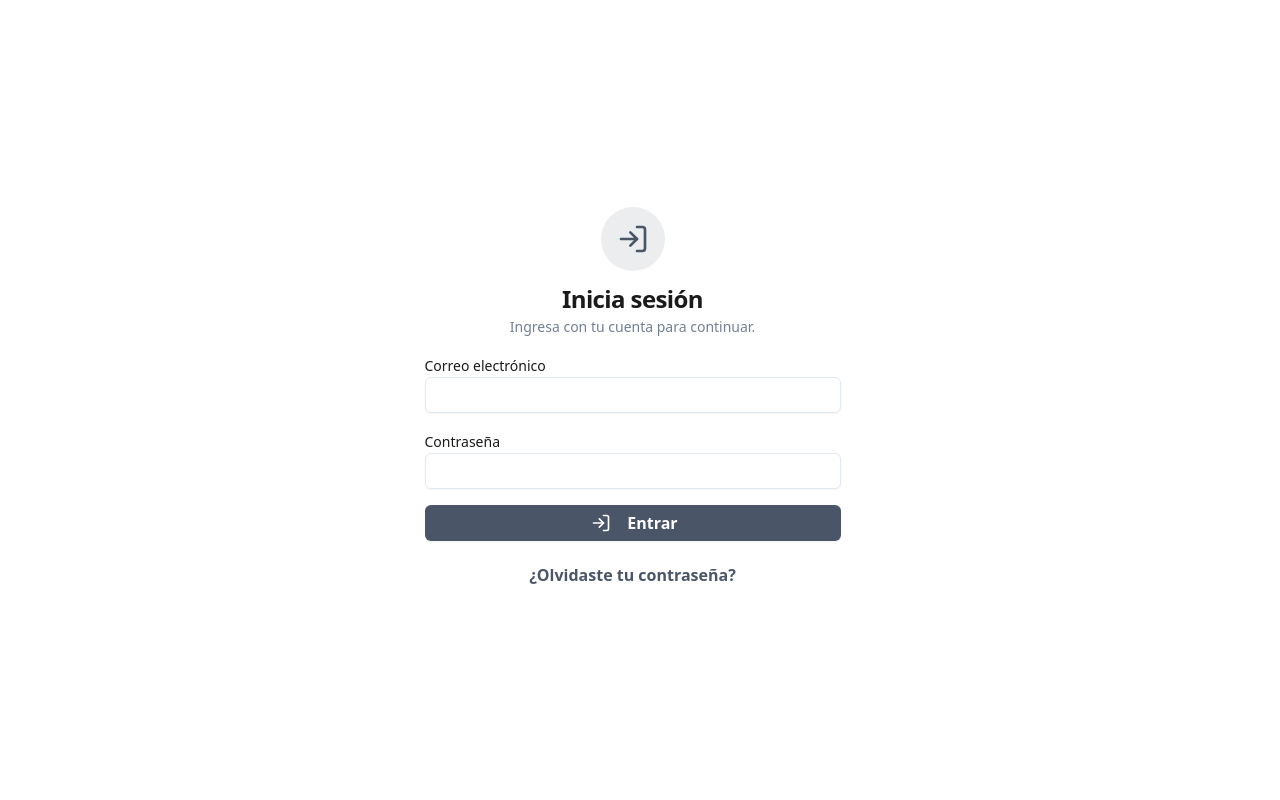
Scenario: login page password recovery entry › leaves the recovery dialog without signing anyone in
This screenshot has width=1280, height=800.
Step 1. Click the button "¿Olvidaste tu contraseña?" → click(632, 575), box x1=517 y1=557 x2=748 y2=593
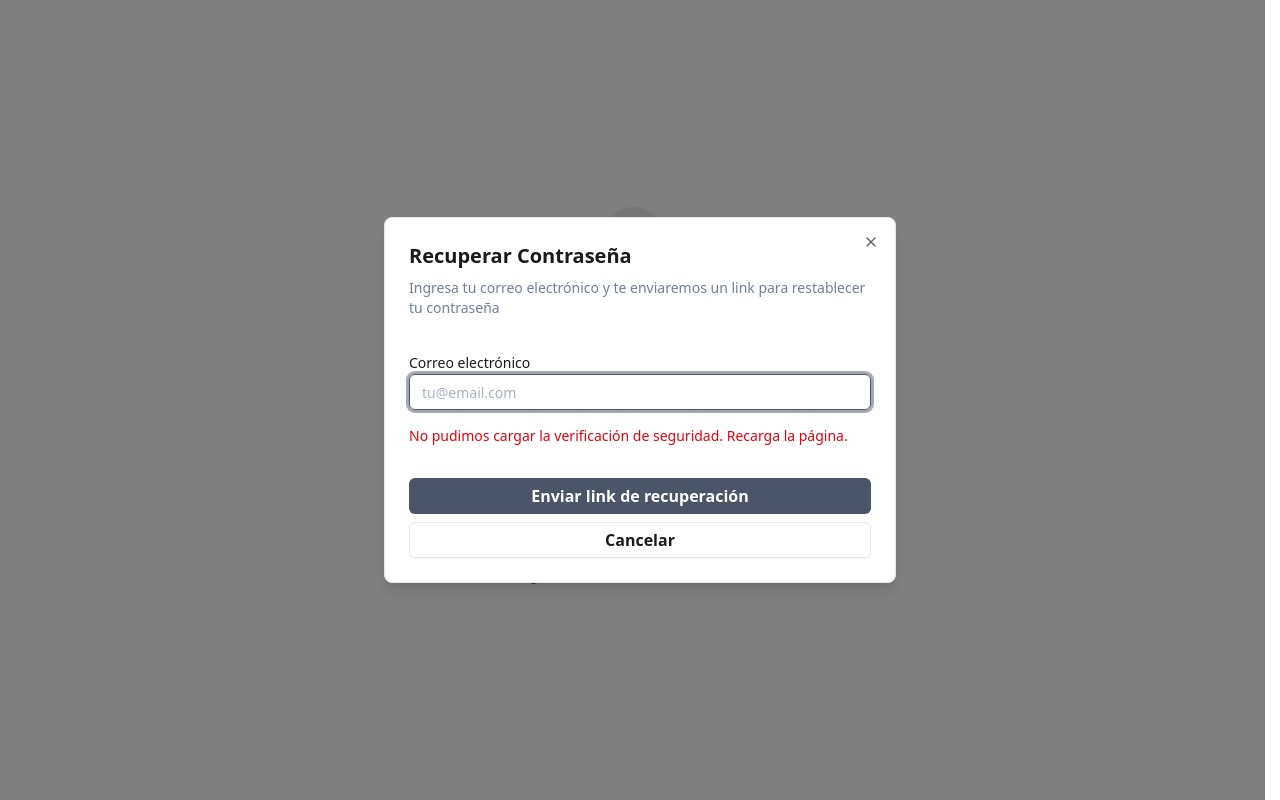
Step 2. Click the button "Cancelar" → click(640, 540), box x1=409 y1=522 x2=871 y2=558
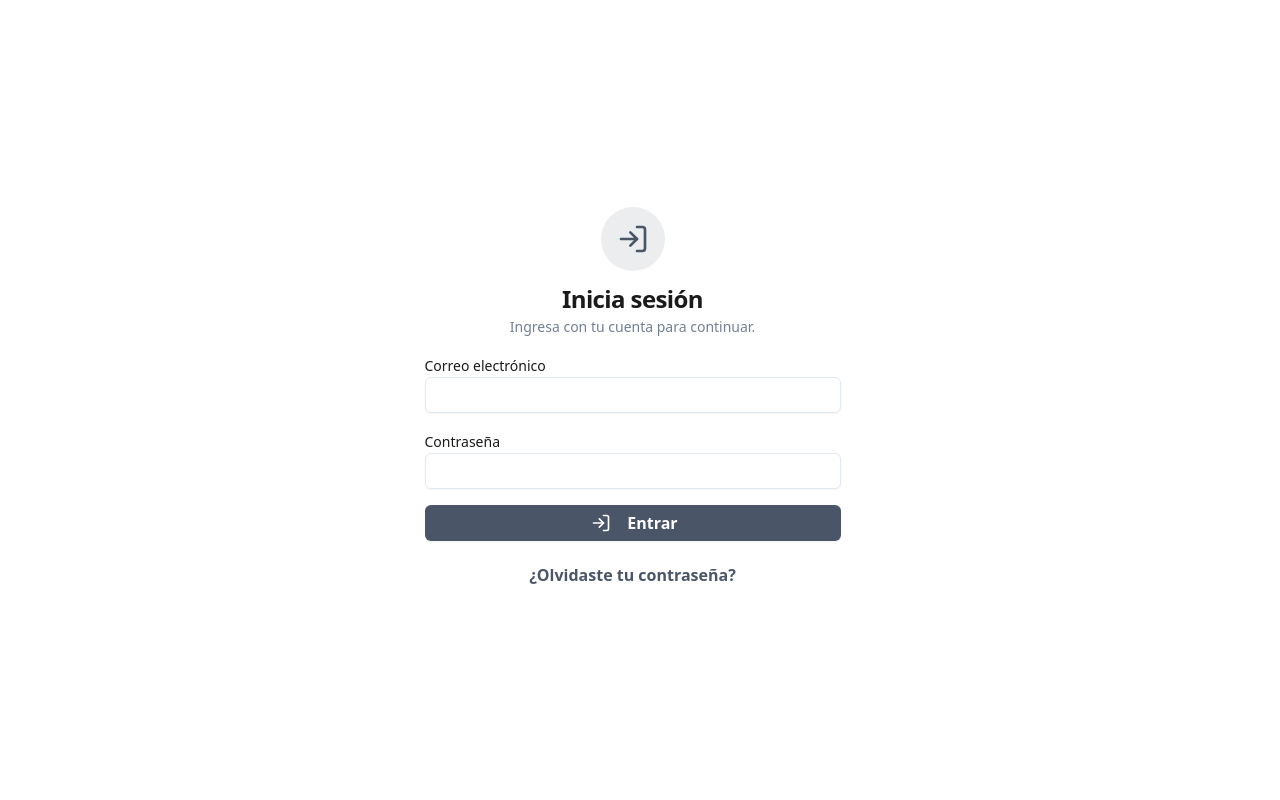
Check: the dialog is gone
